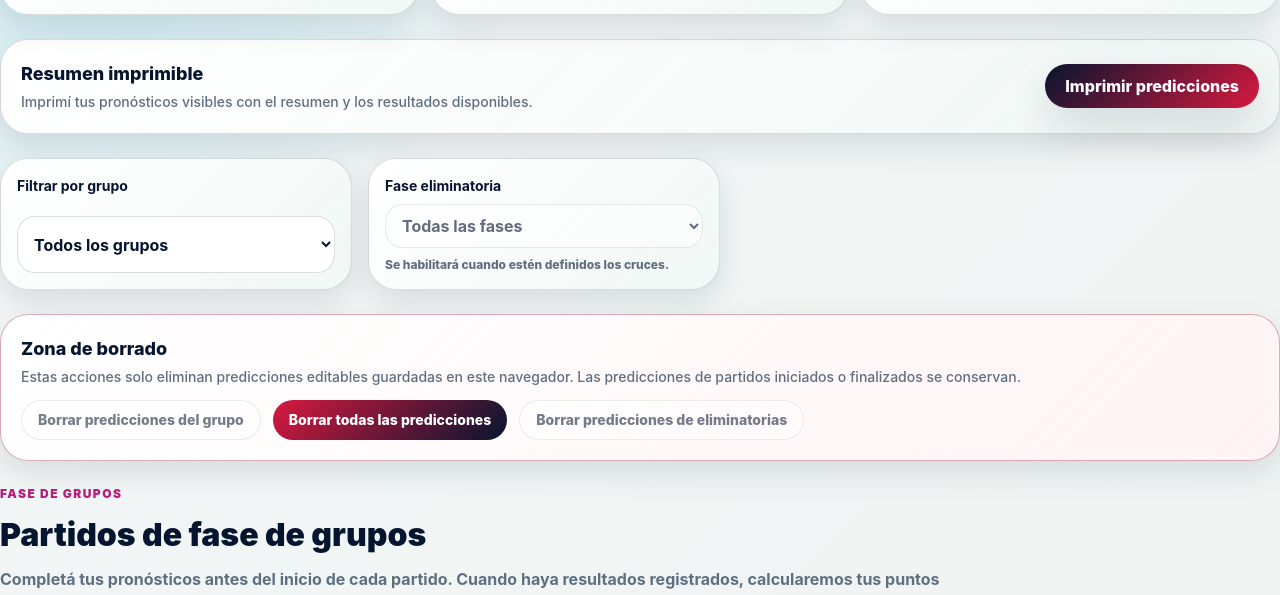
PredictionFixture › clears all editable predictions while preserving PLAYING, FINISHED and date-locked predictions
The image size is (1280, 595).
(page scrolled)
Select "Grupo B" in the dropdown labelled "Filtrar por grupo": (176, 245) x1=17 y1=216 x2=335 y2=273
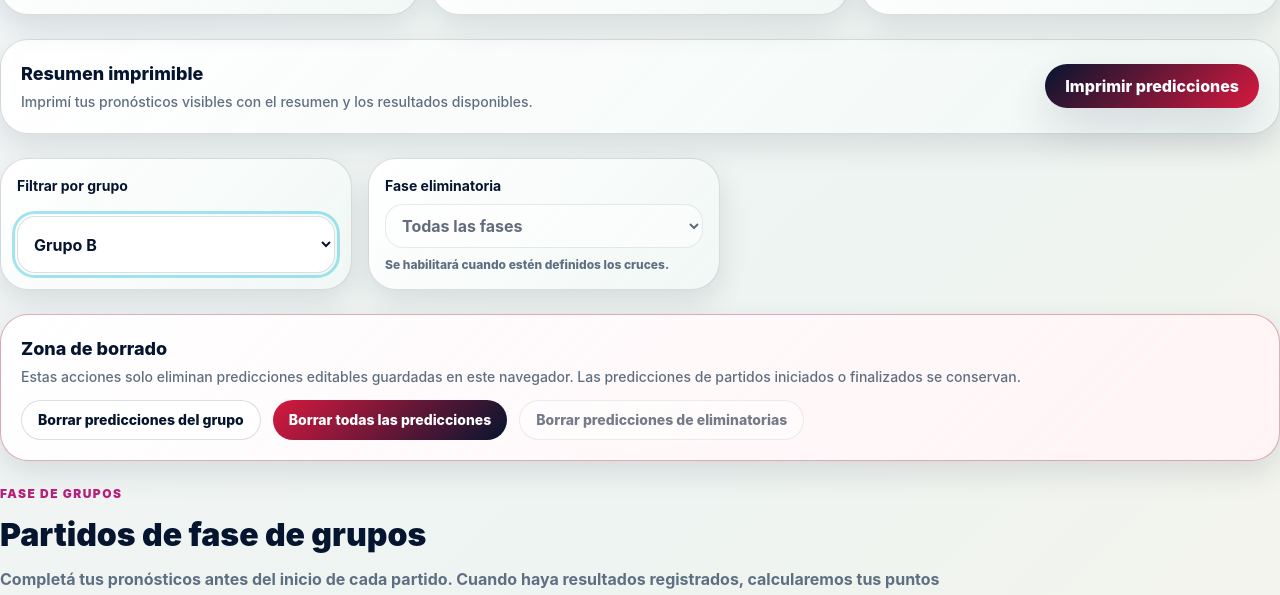
Click the button "Borrar todas las predicciones": (390, 420) x1=273 y1=400 x2=507 y2=440
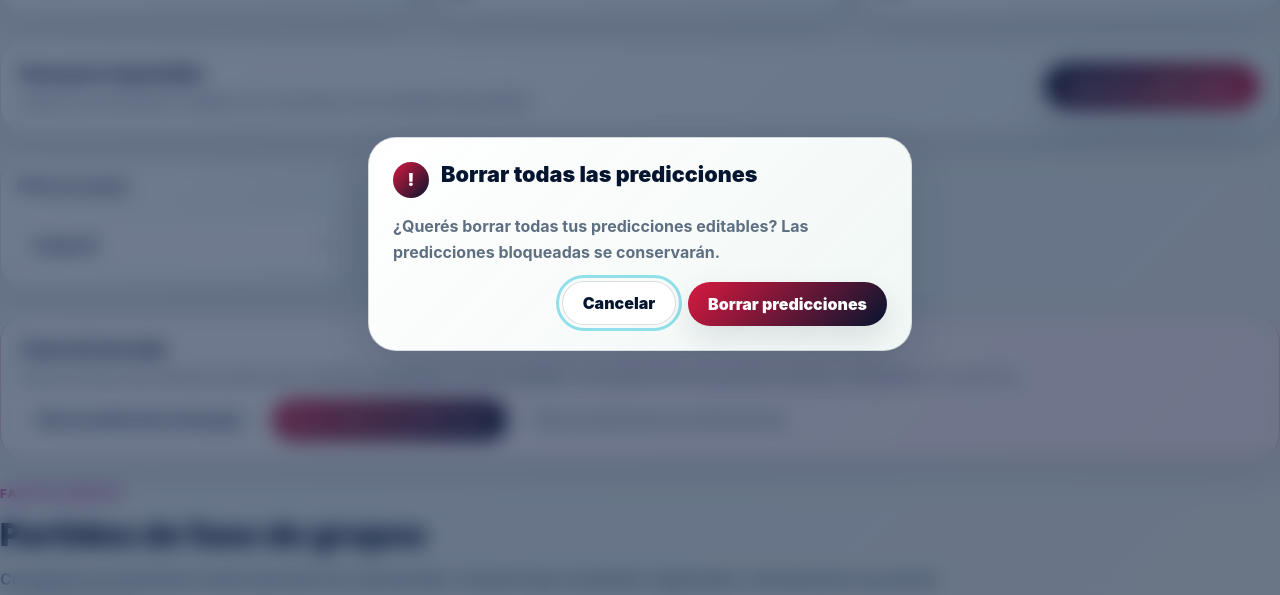
Check: the dialog shows "Borrar todas las predicciones", box x1=441 y1=161 x2=758 y2=187
Check: the dialog shows "¿Querés borrar todas tus predicciones editables? Las predicciones bloqueadas se conservarán.", box x1=393 y1=216 x2=808 y2=262
Click the button "Borrar predicciones": (788, 304) x1=688 y1=282 x2=887 y2=326
(page scrolled)
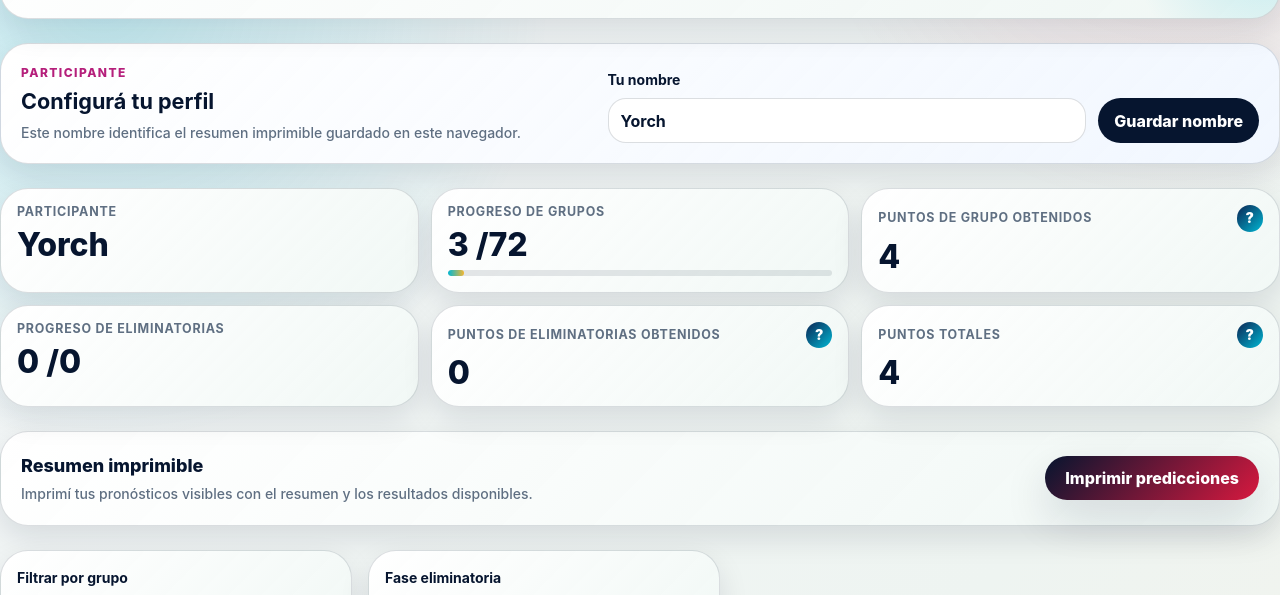
Check: the element named "Resumen de predicciones" shows "Yorch", box x1=17 y1=225 x2=109 y2=264
Check: the element named "Resumen de predicciones" shows "3", box x1=448 y1=225 x2=528 y2=264
